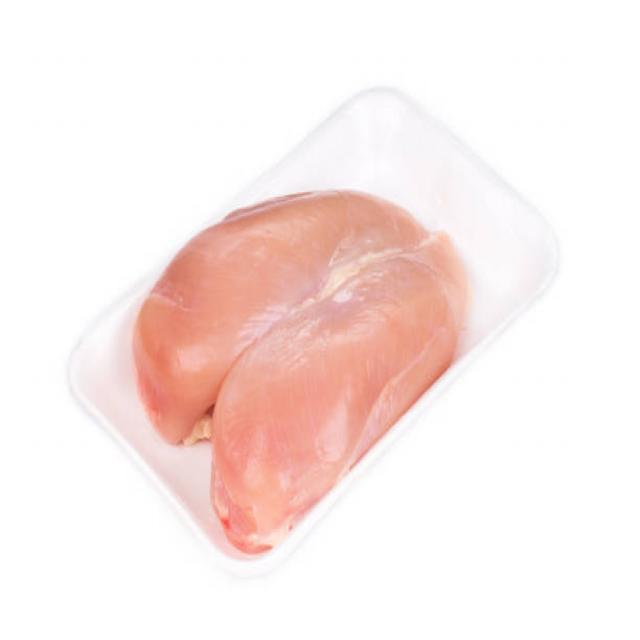Chicken Breast: (124, 202, 489, 500)
